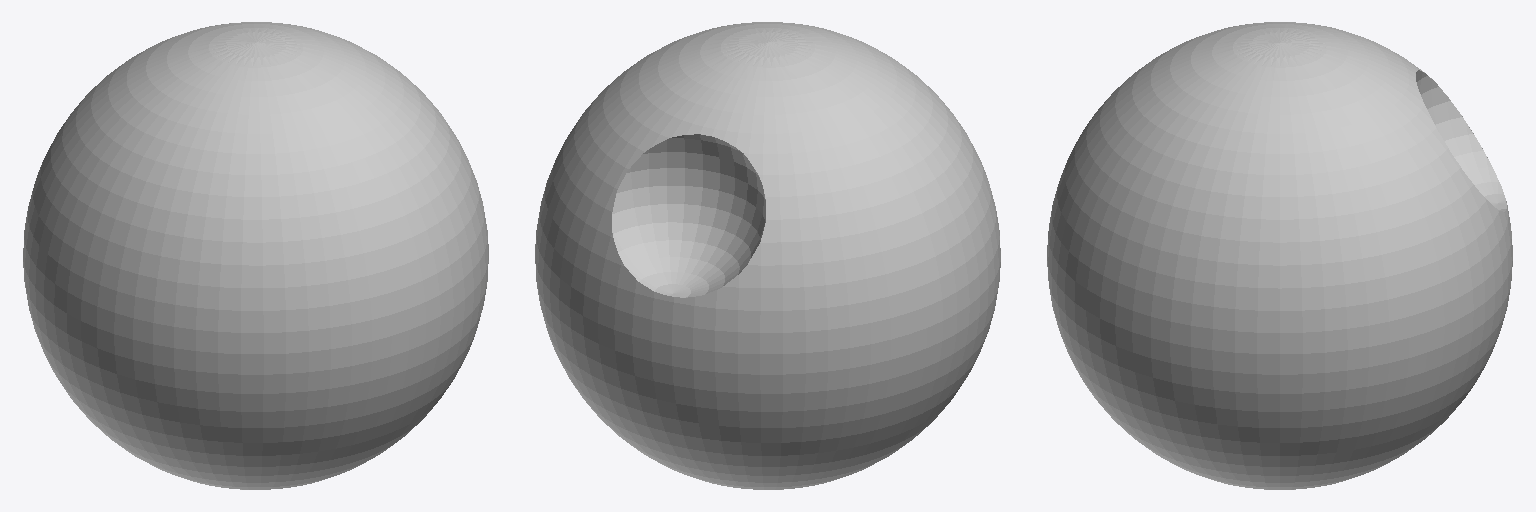
File: death-star.obj
The picture shows the model from 3 angles: view 1: azimuth 30°, elevation 25°; view 2: azimuth 150°, elevation 25°; view 3: azimuth 270°, elevation 25°; orthographic projection.
Visible parts, largest first — view 1: Sphere; view 2: Sphere; view 3: Sphere.
Boxes of the visible parts, box(x1,y1,x2,y2) form: Sphere: box(23, 22, 488, 489); Sphere: box(535, 22, 1000, 489); Sphere: box(1047, 22, 1512, 489).
Bounding box in the file's own units: 1.97 × 2 × 1.97.